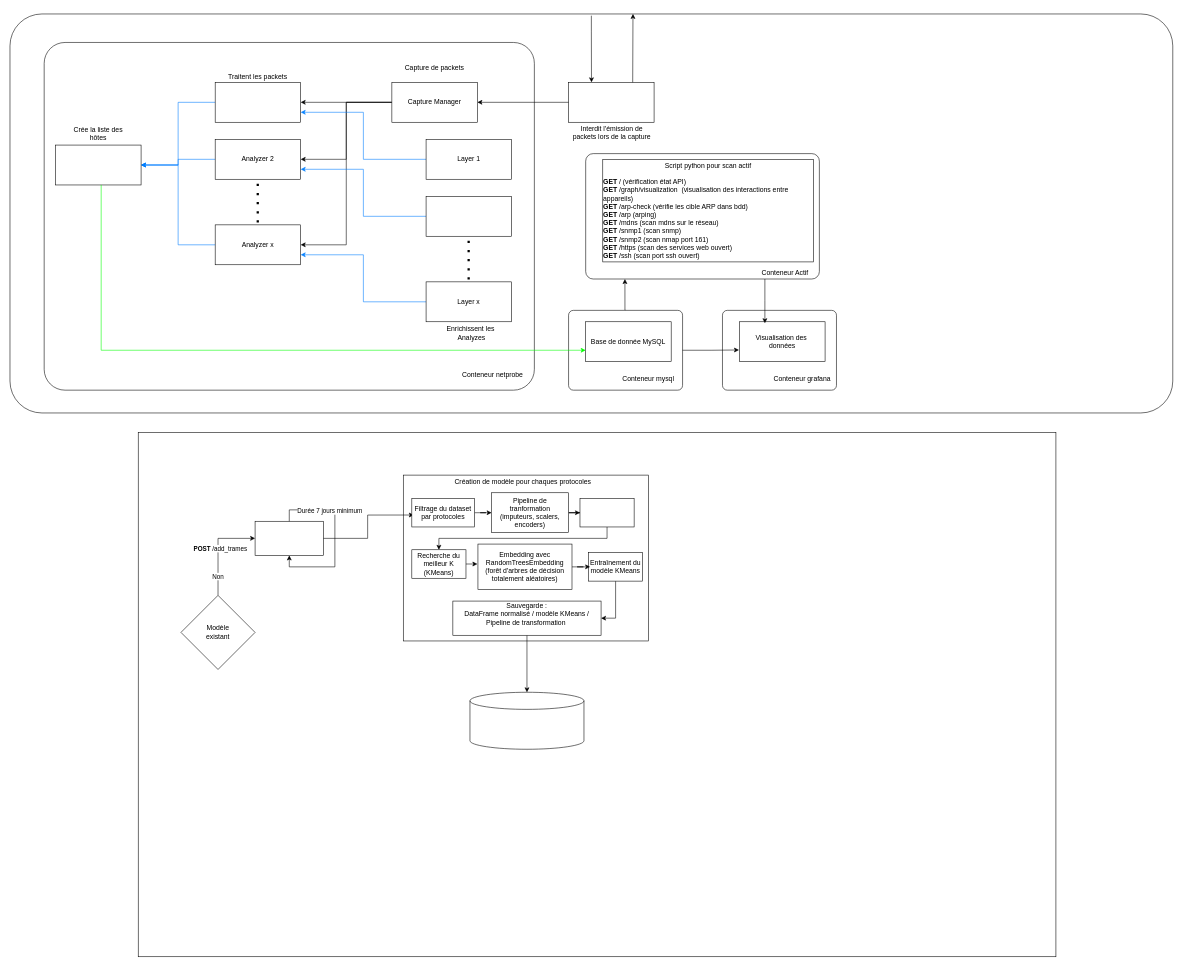
This 1183x967 diagram has some shape labels left out. Each missing label, with the centre of its shape:
"Analyzer 1" belongs at (x=258, y=102).
"DataFrame normalisé" belongs at (x=606, y=512).
"Enrichissement des ensemble de données (dataset)" belongs at (x=289, y=538).
"Hosts Manager" belongs at (x=98, y=164).
"Layer 2" belongs at (x=469, y=216).
"Modèles KMeans DataFrame normalisé Pipeline de transformation" belongs at (x=526, y=720).
"Pare-feu" belongs at (x=611, y=102).
